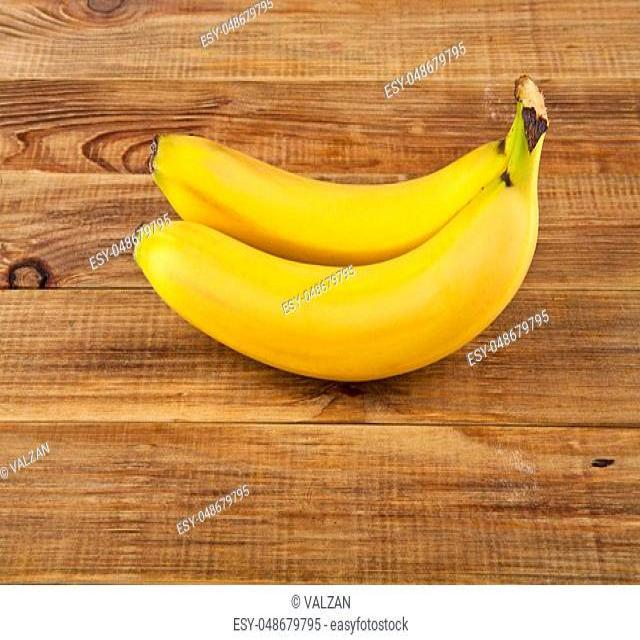banana: (126, 72, 554, 393)
